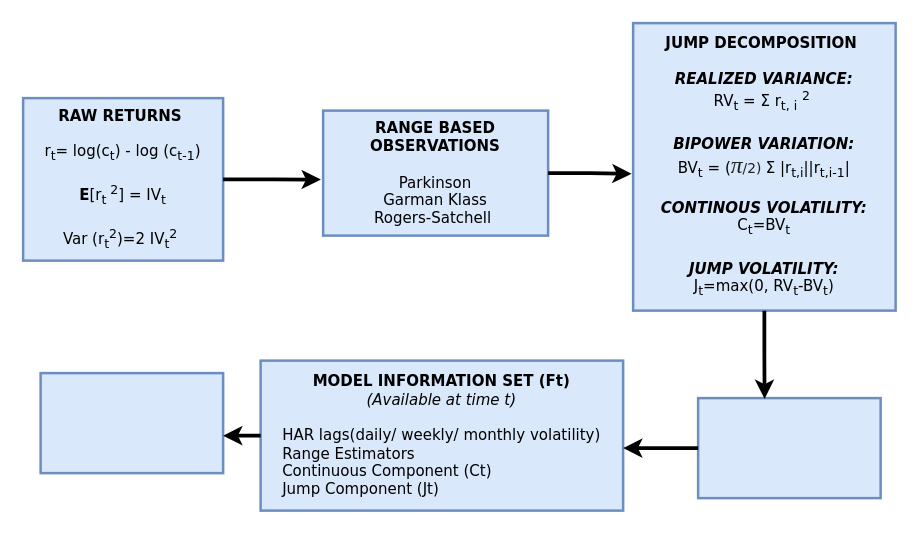
This 918x533 diagram has some shape labels left out. Each missing label, with the centre of its shape:
FORECAST TARGET BUILDER V t,h = 1/h Σ σ 2 t+i: pixel 788 447
FORECAST ŷ t, h = 1/h Σ RV t+i: pixel 131 422
